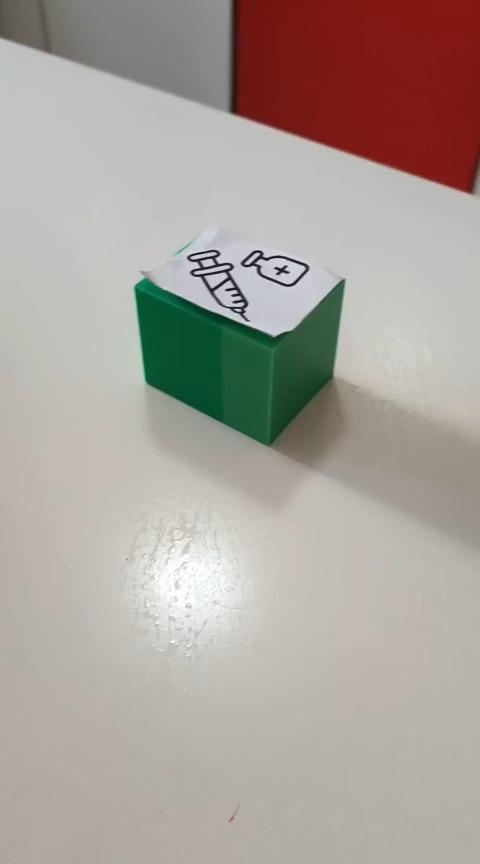antiseptic cream: (132, 223, 346, 446)
